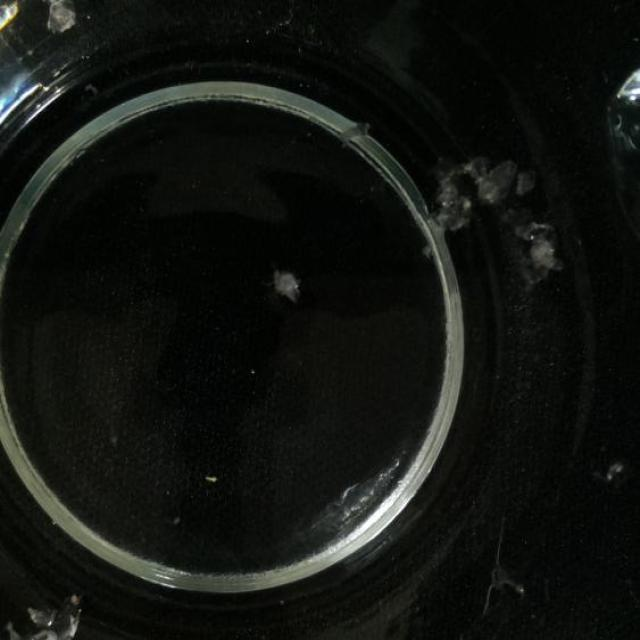fiber: (418, 146, 567, 301), (484, 518, 542, 640), (0, 589, 90, 640), (595, 449, 629, 491), (41, 0, 81, 33), (273, 266, 303, 302)
